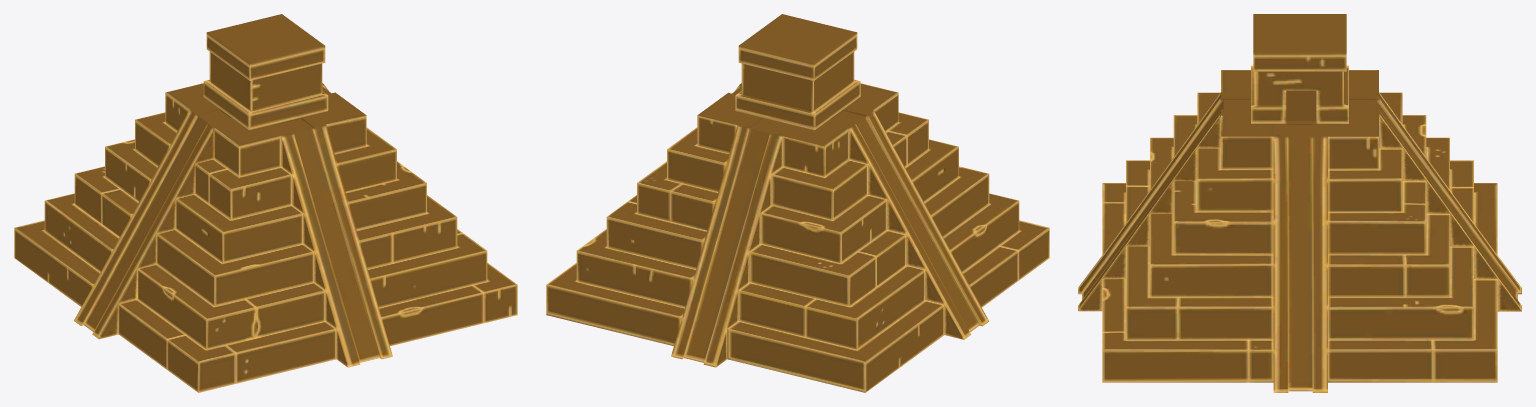
File: SunPyramid.glb
The picture shows the model from 3 angles, left to right: view 1: azimuth 30°, elevation 25°; view 2: azimuth 150°, elevation 25°; view 3: azimuth 270°, elevation 25°; orthographic projection. The views are drawn at different scales.
Visible parts, largest first — view 1: SunPyramid; view 2: SunPyramid; view 3: SunPyramid.
Boxes of the visible parts, x1,y1,x2,y2 form: SunPyramid: [14, 14, 517, 392]; SunPyramid: [546, 14, 1049, 392]; SunPyramid: [1078, 14, 1521, 392].
Bounding box in the file's own units: 0.3063 × 0.2025 × 0.3063.
Materials: 1 (1 with a texture image).
